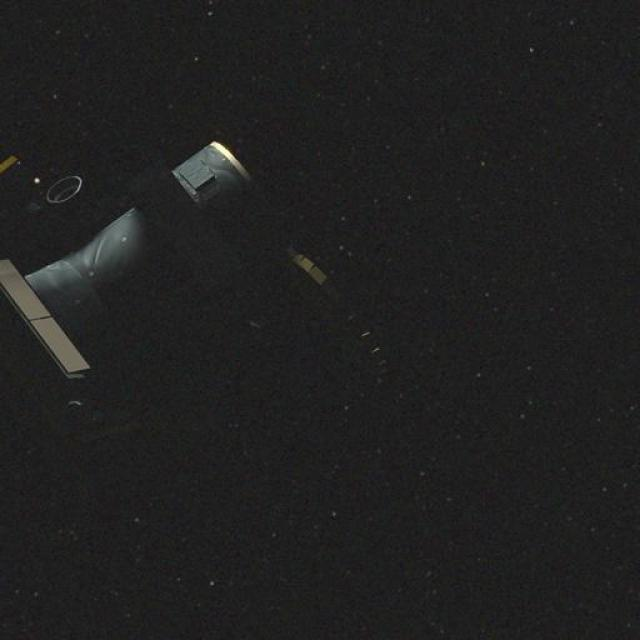cheops: (0, 140, 392, 406)
